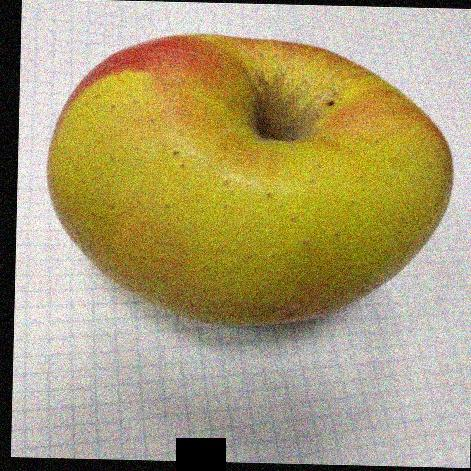green apple: (40, 32, 443, 339)
